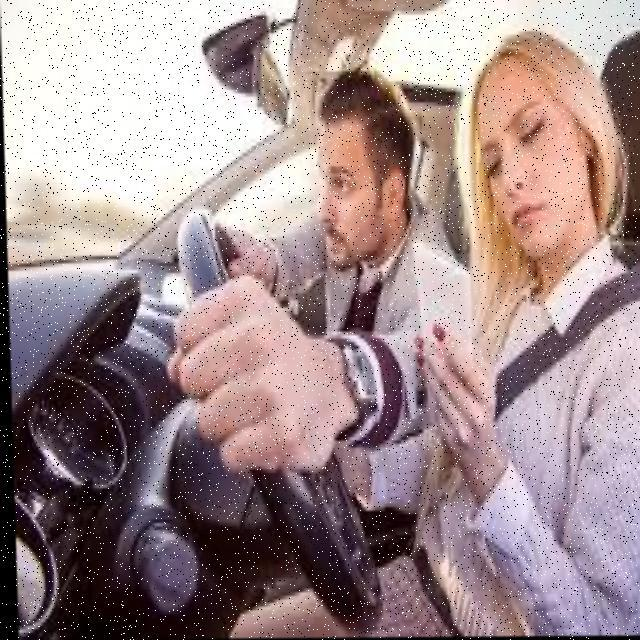seatbelt: (439, 208, 640, 596)
